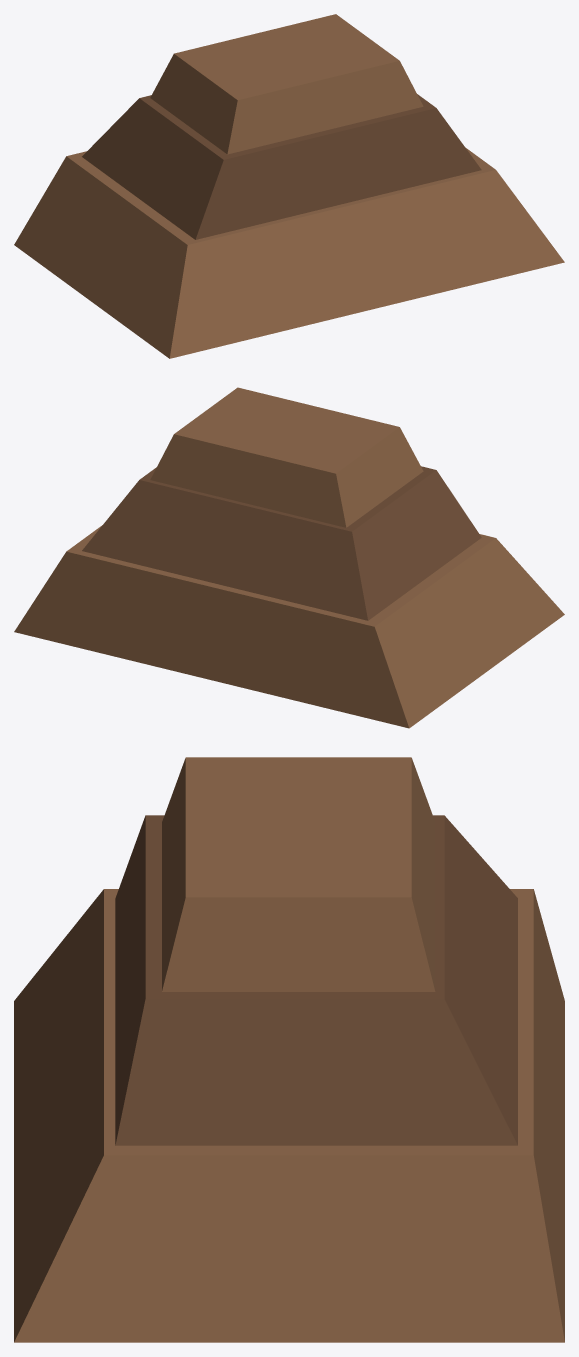
The model's file is mesa.glb.
The picture shows the model from 3 angles, top to bottom: view 1: azimuth 30°, elevation 25°; view 2: azimuth 150°, elevation 25°; view 3: azimuth 270°, elevation 25°; orthographic projection. The views are drawn at different scales.
Parts seen in each view (by area): view 1: Mesa; view 2: Mesa; view 3: Mesa.
Boxes of the visible parts, x1=… form: Mesa: x1=14, y1=14, x2=564, y2=358; Mesa: x1=14, y1=387, x2=564, y2=728; Mesa: x1=14, y1=757, x2=564, y2=1342.
Bounding box in the file's own units: 44 × 20.7 × 30.
